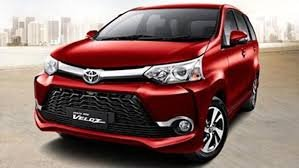mobil: (32, 3, 262, 164)
